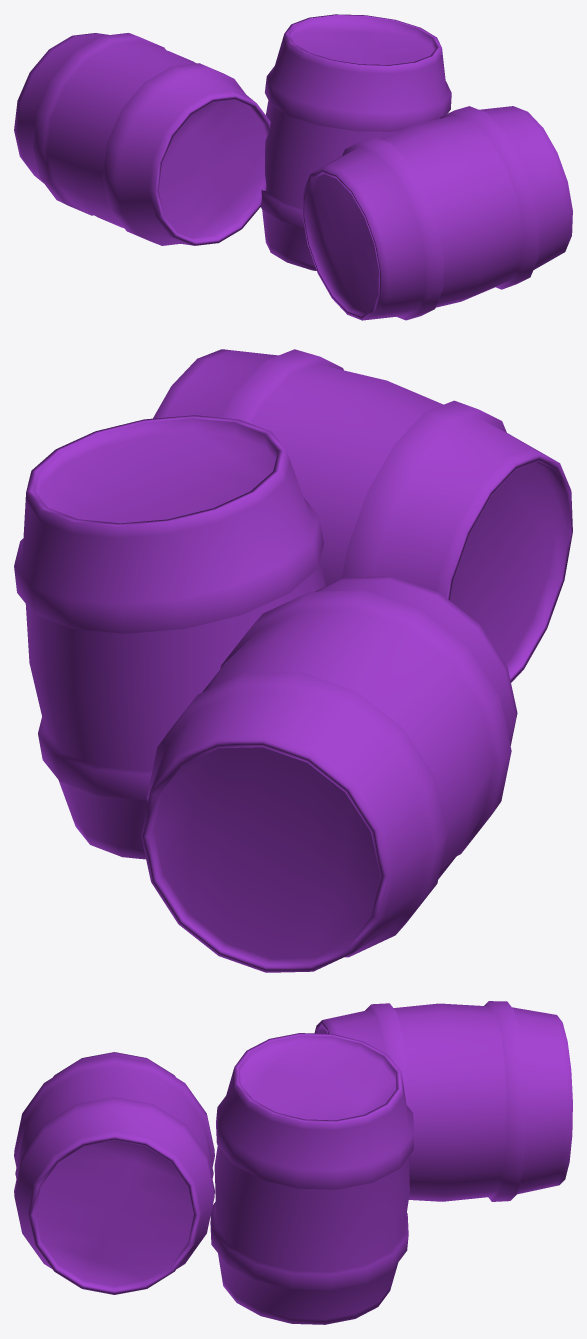
The model's file is Beam_Structure_17C_Lod0.fbx.
The picture shows the model from 3 angles, top to bottom: view 1: azimuth 30°, elevation 25°; view 2: azimuth 150°, elevation 25°; view 3: azimuth 270°, elevation 25°; orthographic projection. The views are drawn at different scales.
Parts seen in each view (by area): view 1: Beam_Structure_17C_Lod0; view 2: Beam_Structure_17C_Lod0; view 3: Beam_Structure_17C_Lod0.
Part boxes in pixels (box(x1,y1,x2,y2)): Beam_Structure_17C_Lod0: box(14, 14, 572, 320); Beam_Structure_17C_Lod0: box(14, 349, 572, 972); Beam_Structure_17C_Lod0: box(14, 1001, 572, 1324).
Size of the model in its own units: 137 by 86.77 by 187.
